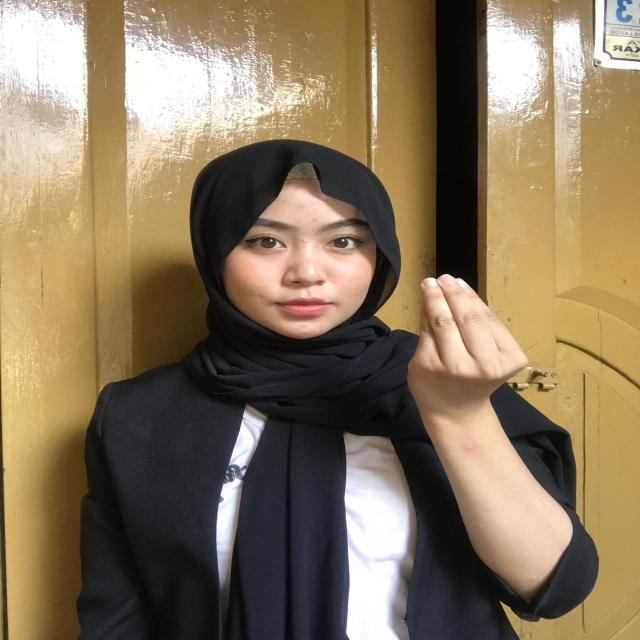kapan: (356, 257, 549, 468)
